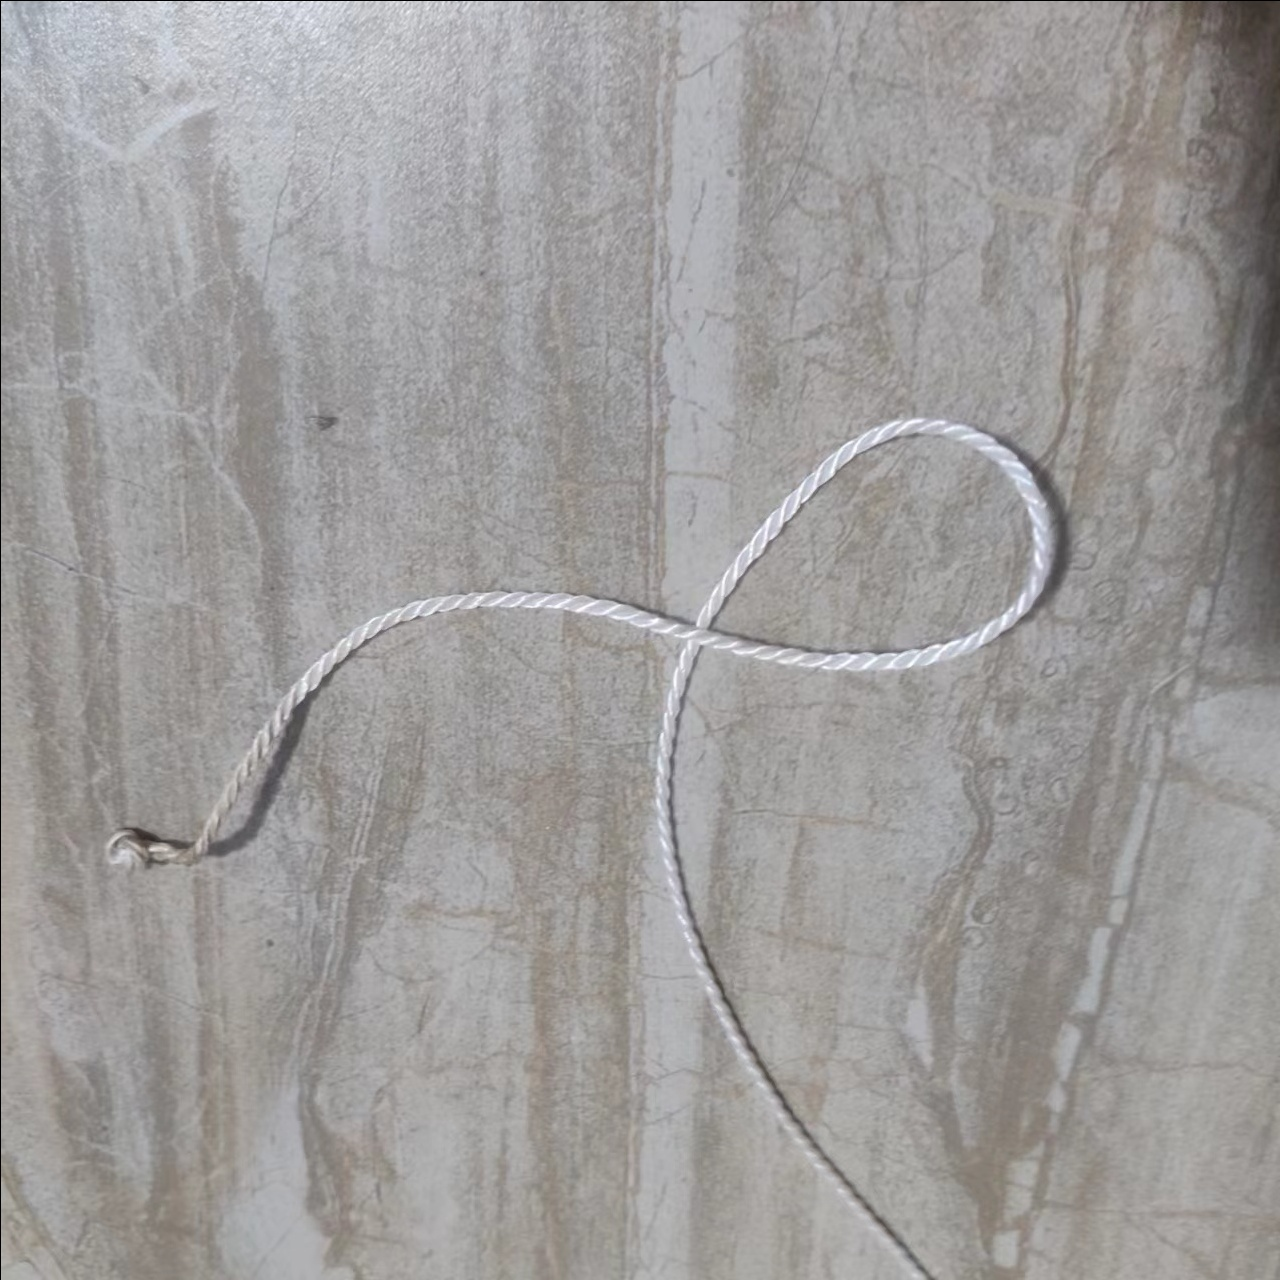9/可回收垃圾/绳子: (102, 417, 1062, 1280)
